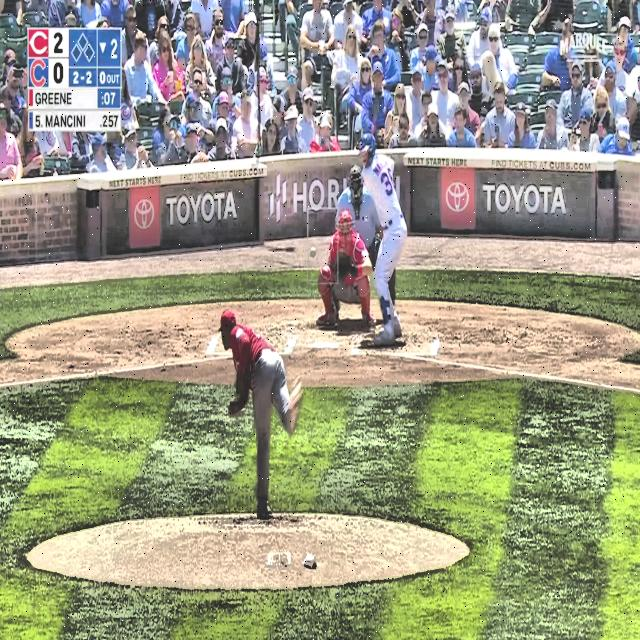baseball: (310, 247, 317, 258)
